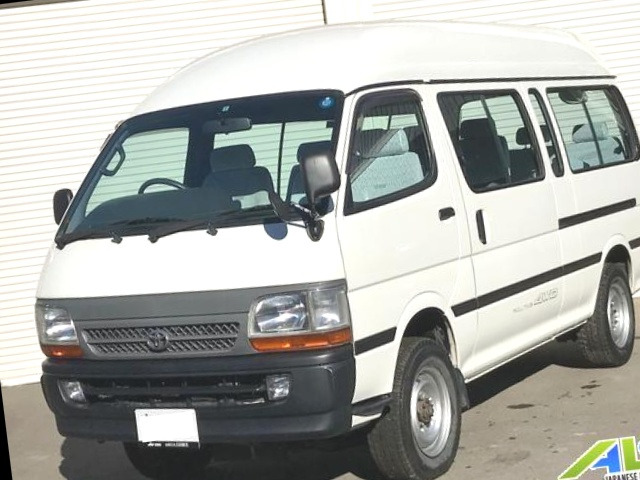van: (3, 0, 640, 480)
